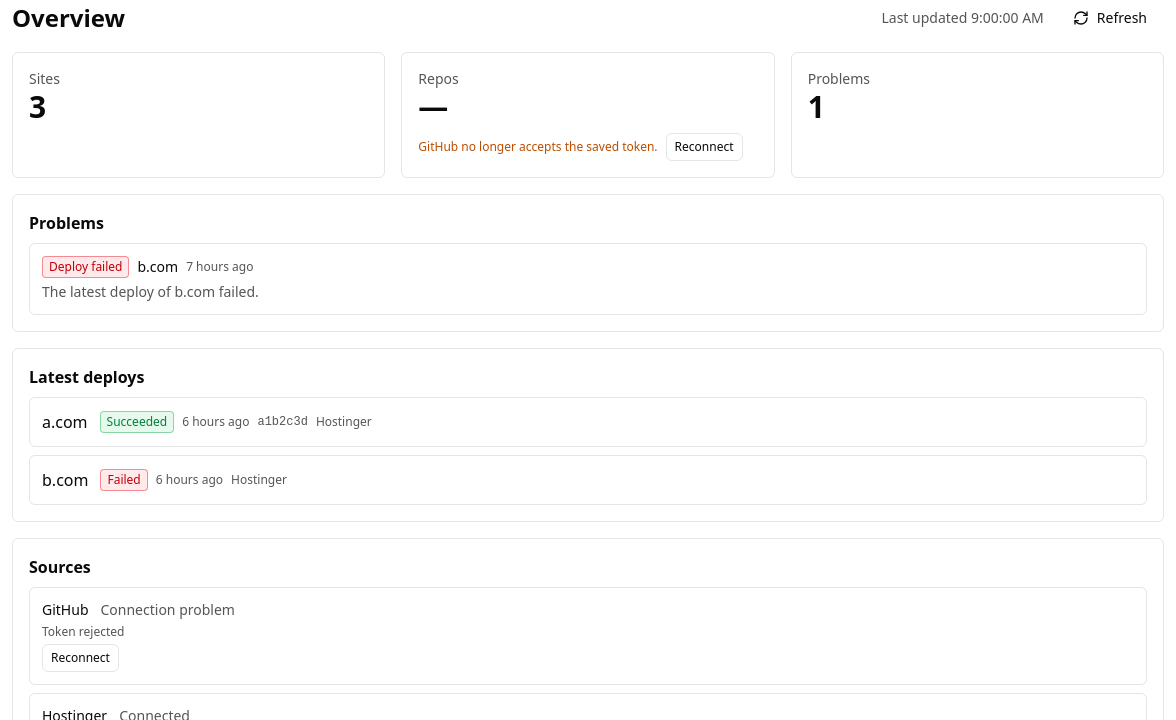
Test case: OverviewPage › a rejected GitHub token offers Reconnect in the GitHub parts
Expected: the element with test id "overview-part-error" shows "GitHub no longer accepts the saved token.", 418,138 -> 658,155
Click the button "Reconnect" below "Repos" at (704, 147), box 666,133 -> 743,161
(page scrolled)
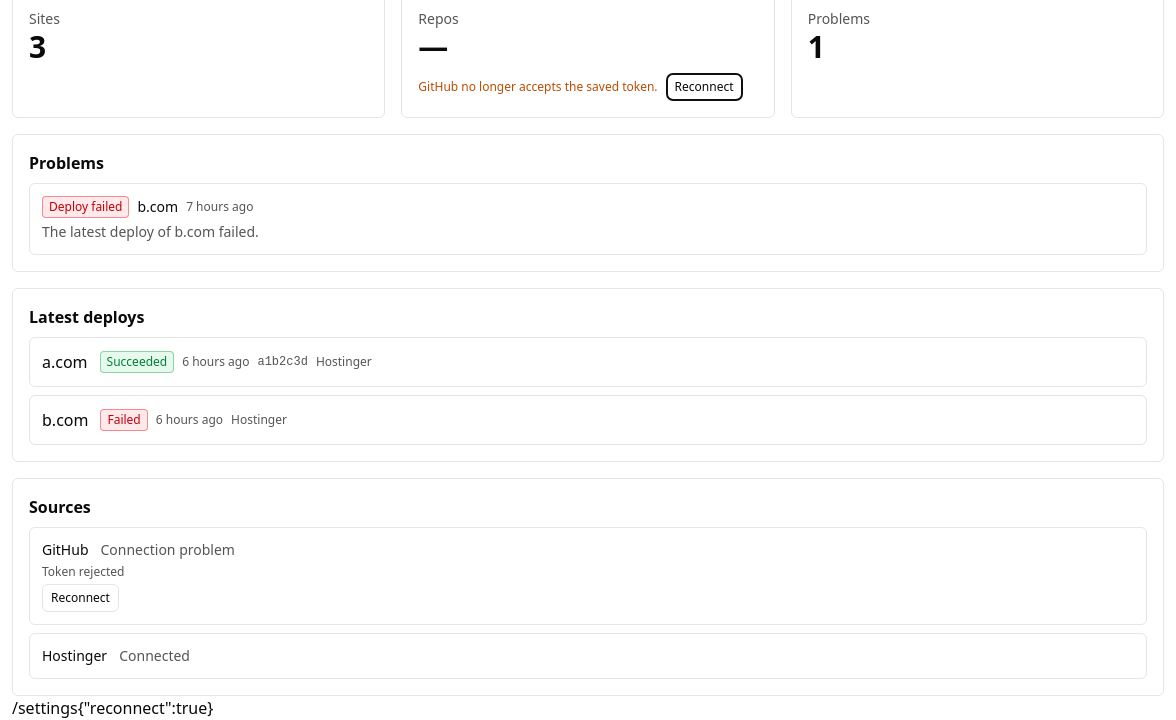
Expected: the text with test id "where" reads "/settings{\"reconnect\":true}", 12,697 -> 213,719
